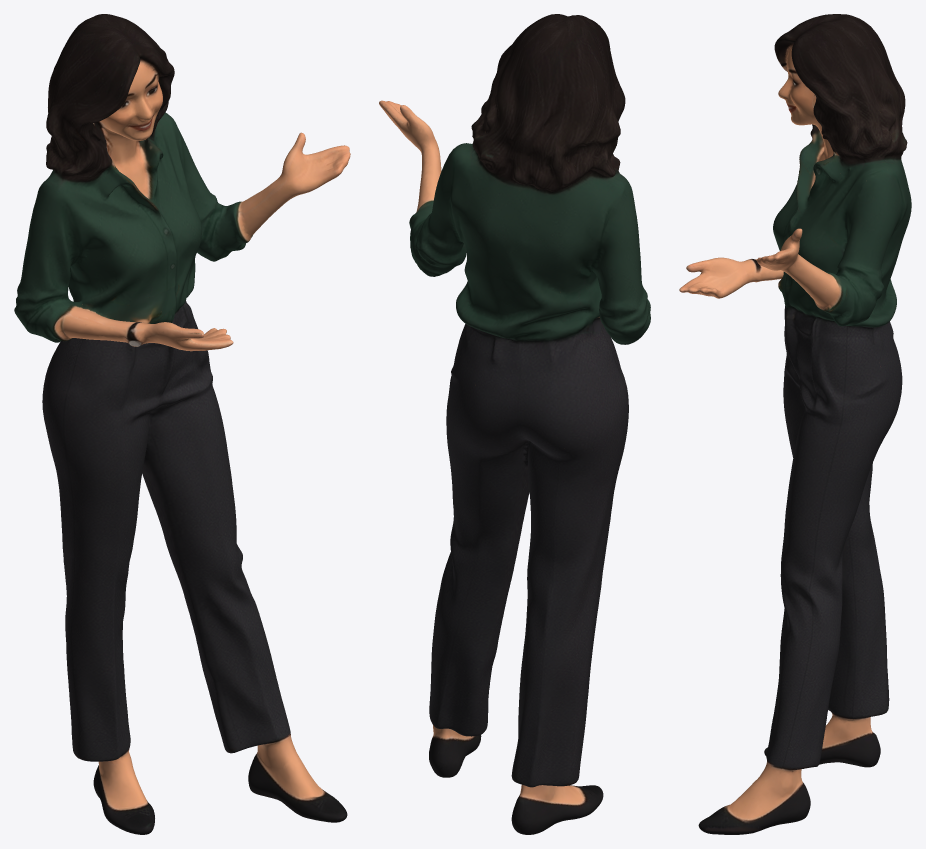
File: commercial_pose2.glb
3 views of the same model, side by side, from view 1: azimuth 30°, elevation 25°; view 2: azimuth 150°, elevation 25°; view 3: azimuth 270°, elevation 25° (orthographic). The views are drawn at different scales.
Bounding box in the file's own units: 0.747 × 1.9 × 0.5396.
1 material, 1 textured.
